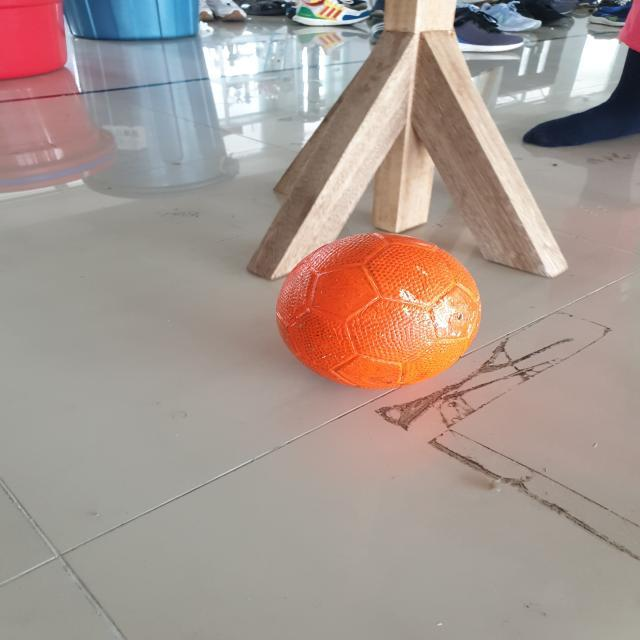bola: (264, 219, 499, 396)
